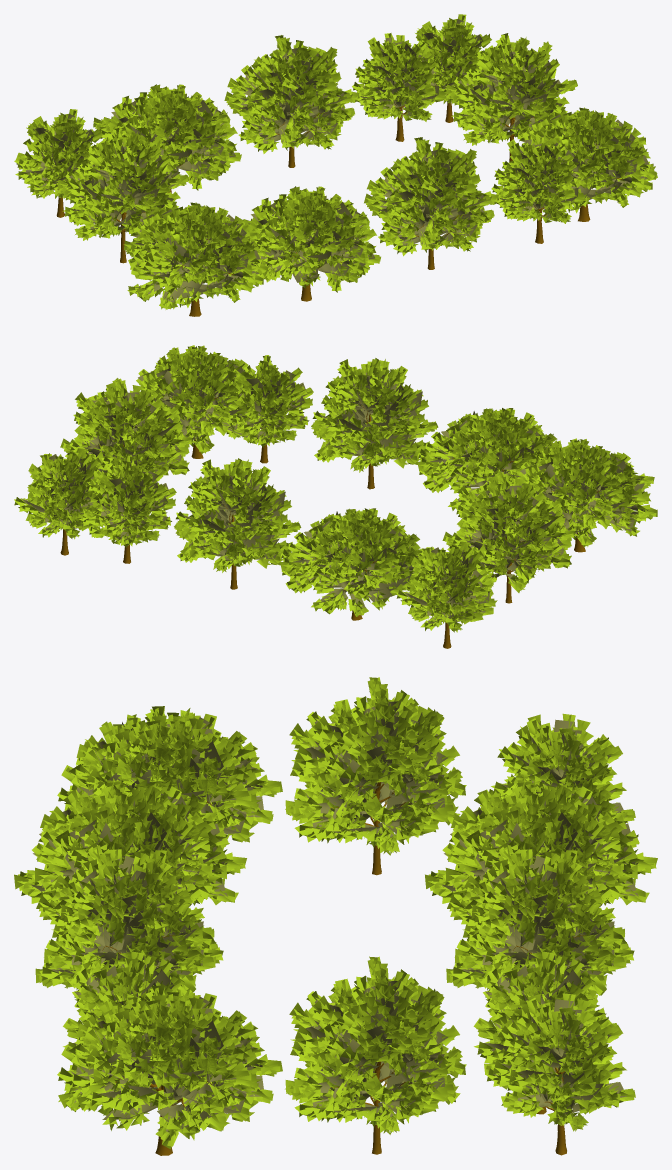
The model's file is trees.glb.
The picture shows the model from 3 angles, top to bottom: view 1: azimuth 30°, elevation 25°; view 2: azimuth 150°, elevation 25°; view 3: azimuth 270°, elevation 25°; orthographic projection. The views are drawn at different scales.
Visible parts, largest first — view 1: Leaf_6_3 (×4), Bark_9_2 (×2); view 2: Leaf_6_3 (×4), Bark_9_2; view 3: Leaf_6_3 (×4), Bark_9_2.
Boxes of the visible parts, <box> form: Leaf_6_3 (×4): <box>14,14,657,309</box>; Bark_9_2 (×2): <box>46,180,546,316</box>; Leaf_6_3 (×4): <box>14,345,657,632</box>; Bark_9_2: <box>433,490,600,648</box>; Leaf_6_3 (×4): <box>14,677,657,1149</box>; Bark_9_2: <box>115,1056,571,1155</box>.
Size of the model in its own units: 33.24 by 7.56 by 23.93.
